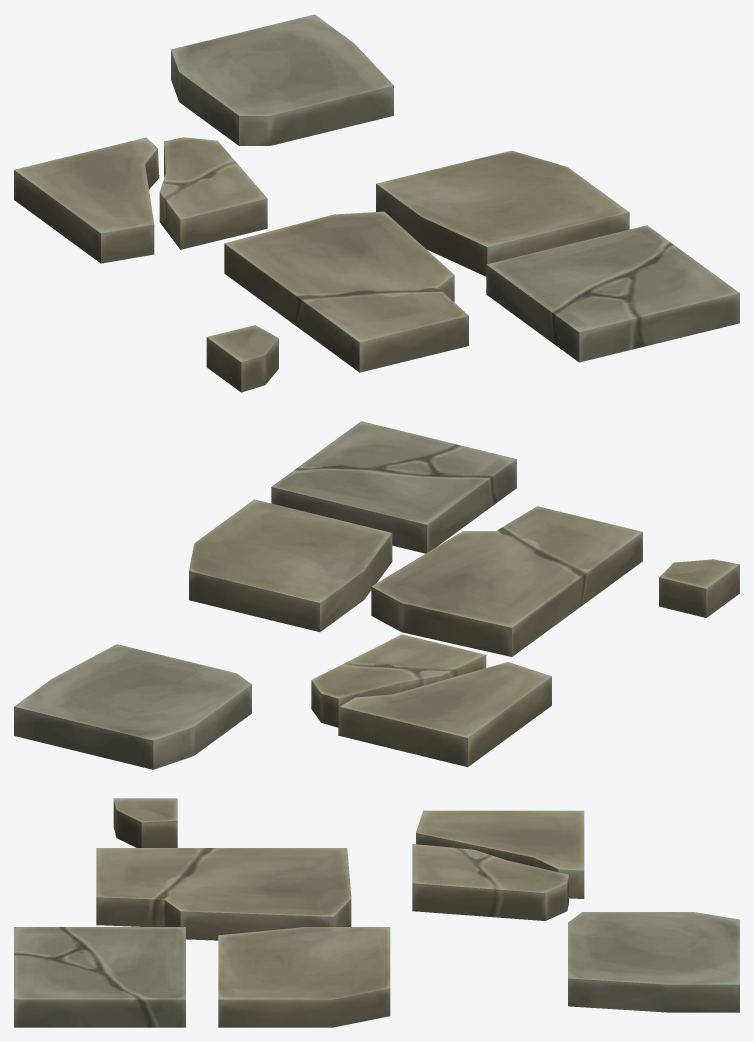
Rendered from Stairs_Debris1.fbx.
3 renders of one model, top to bottom at view 1: azimuth 30°, elevation 25°; view 2: azimuth 150°, elevation 25°; view 3: azimuth 270°, elevation 25°, orthographic. The views are drawn at different scales.
Parts seen in each view (by area): view 1: polySurface656; view 2: polySurface656; view 3: polySurface656.
Boxes of the visible parts, x1,y1,x2,y2 form: polySurface656: (14,14,739,392); polySurface656: (14,421,739,769); polySurface656: (14,798,739,1027).
Size of the model in its own units: 112 by 7.22 by 170.
Materials: 1 (1 with a texture image).
